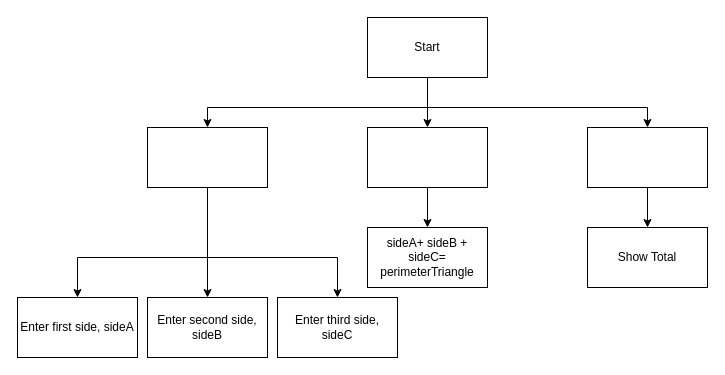
This 725x375 diagram has some shape labels left out. Each missing label, with the centre of its shape:
"Input" goes at (x=207, y=157).
"Output" goes at (x=647, y=157).
"Process" goes at (x=427, y=157).
